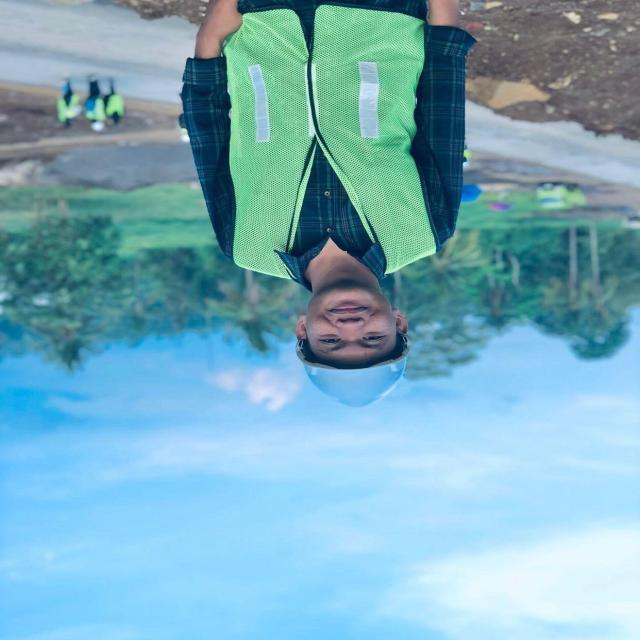safetyhelmet: (290, 270, 414, 415)
